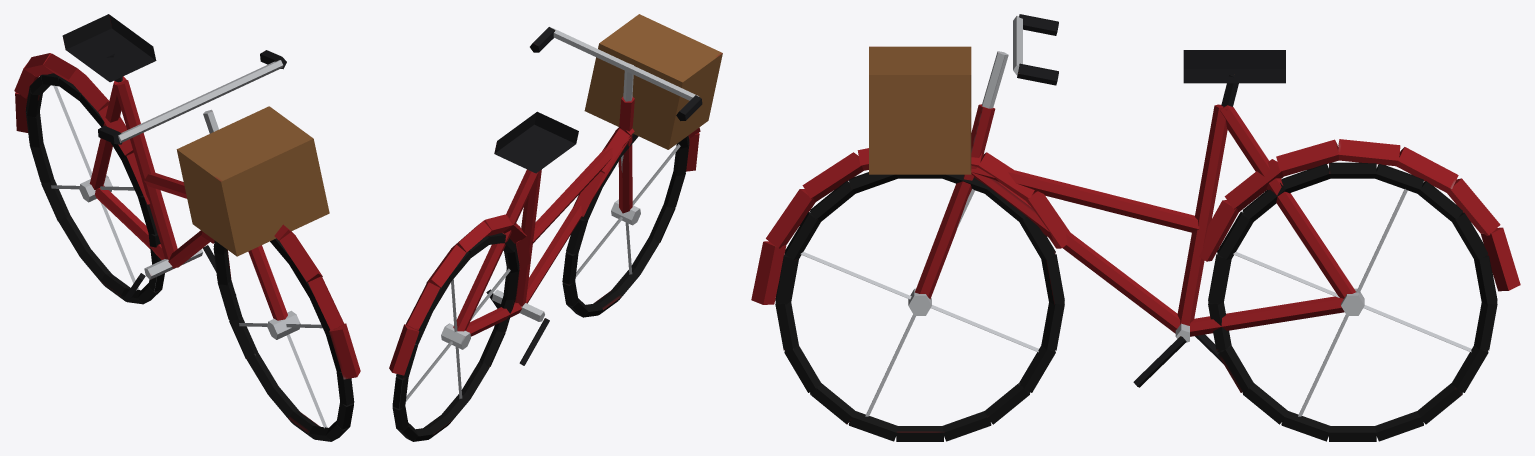
The model's file is kolo_57d03b18.glb.
3 renders of one model, left to right at view 1: azimuth 30°, elevation 25°; view 2: azimuth 150°, elevation 25°; view 3: azimuth 270°, elevation 25°, orthographic. The views are drawn at different scales.
Visible parts, largest first — view 1: dum; view 2: dum; view 3: dum.
Part boxes in pixels (x1,y1,x2,y2): dum: (14,14,360,441); dum: (389,14,722,441); dum: (751,14,1520,441).
Size of the model in its own units: 0.5867 by 1.09 by 1.95.
Materials: 1 (1 with a texture image).
